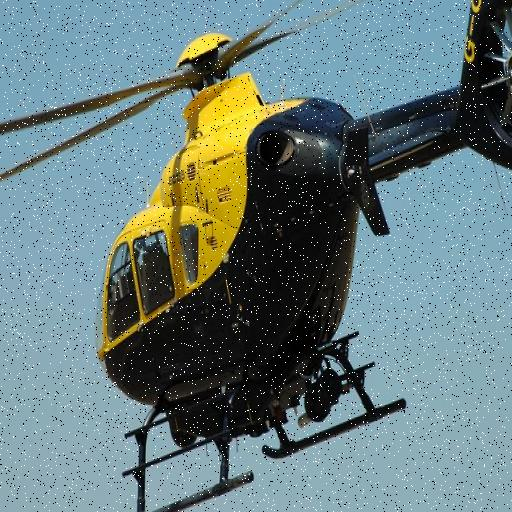helicopter: (1, 13, 512, 512)
